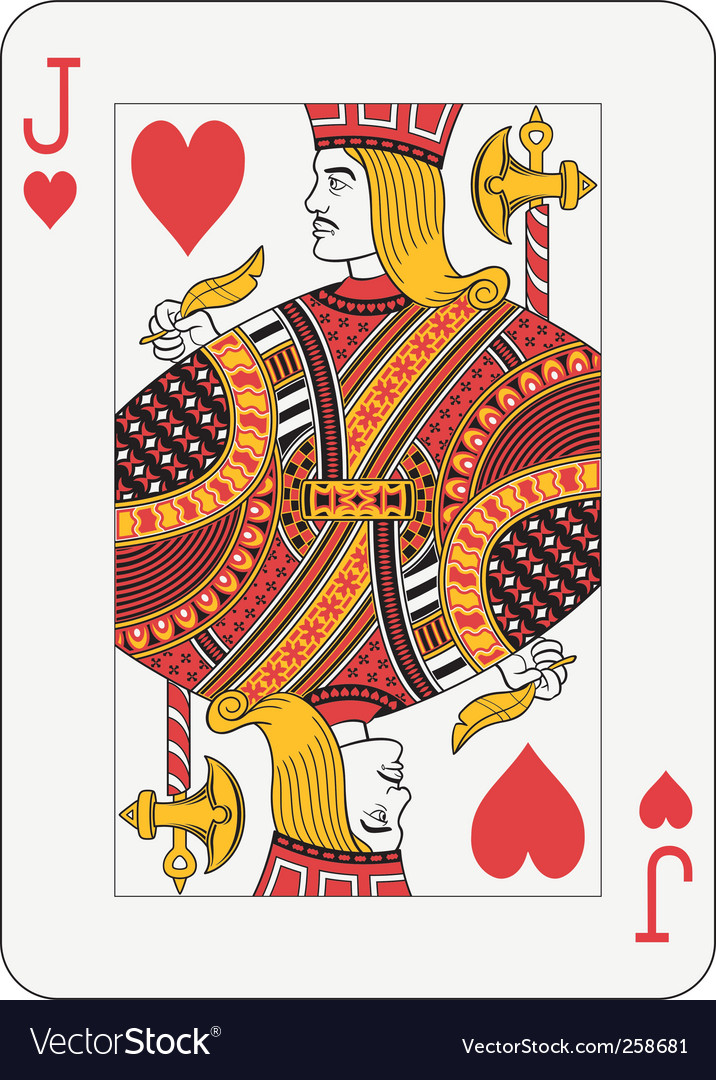jack of hearts: (7, 12, 715, 978)
